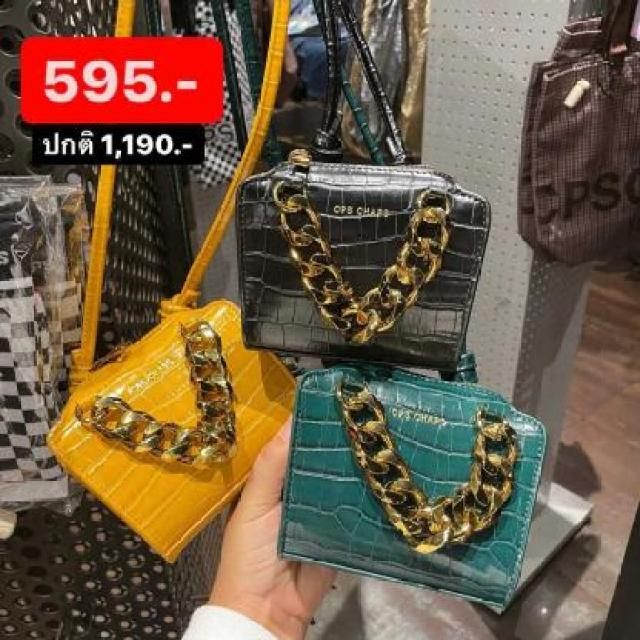Bag: (31, 18, 343, 596), (206, 0, 492, 378), (275, 347, 542, 640)
